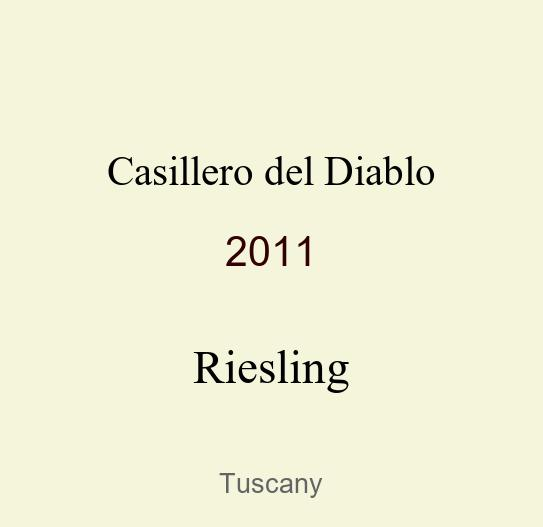brand: (107, 148, 436, 177)
region: (219, 468, 323, 493)
variety: (193, 341, 350, 384)
vintage: (225, 228, 317, 258)
